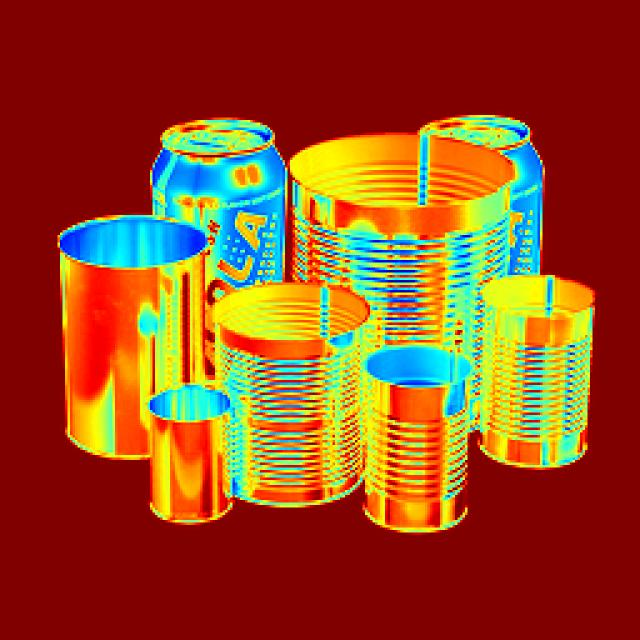Aluminium Food Cans: (61, 215, 222, 413), (296, 137, 469, 308), (234, 277, 358, 499), (357, 339, 491, 519), (492, 293, 602, 446), (183, 118, 293, 255), (155, 386, 241, 505)
